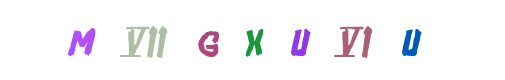6: (257, 0, 337, 80)
7: (139, 0, 219, 80)
G: (186, 0, 266, 80)
M: (134, 0, 214, 80)
U: (214, 0, 294, 80), (371, 0, 451, 80)
X: (213, 0, 293, 80)
